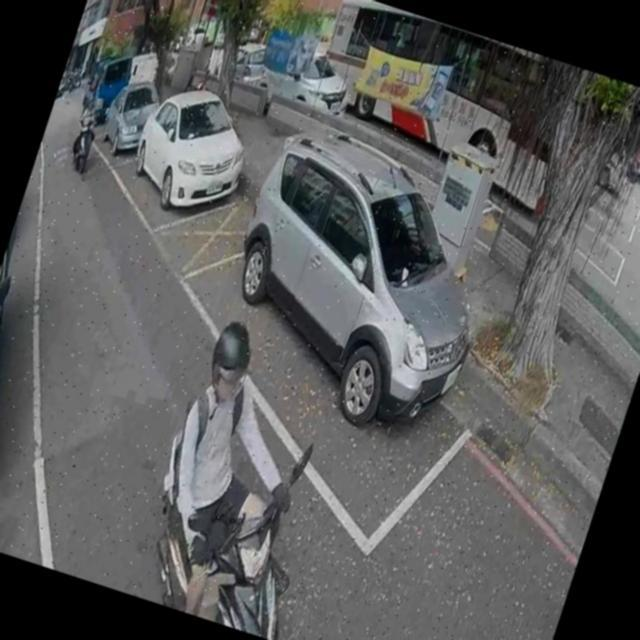person: (130, 310, 342, 634), (66, 94, 107, 169), (629, 133, 640, 182)
